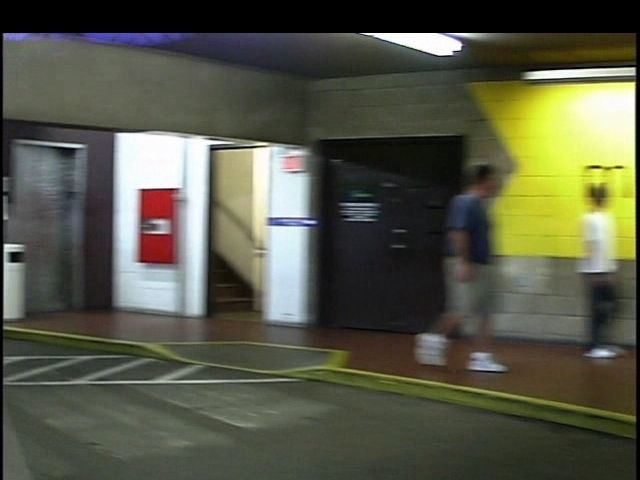person: (388, 158, 504, 376), (533, 171, 622, 364)
